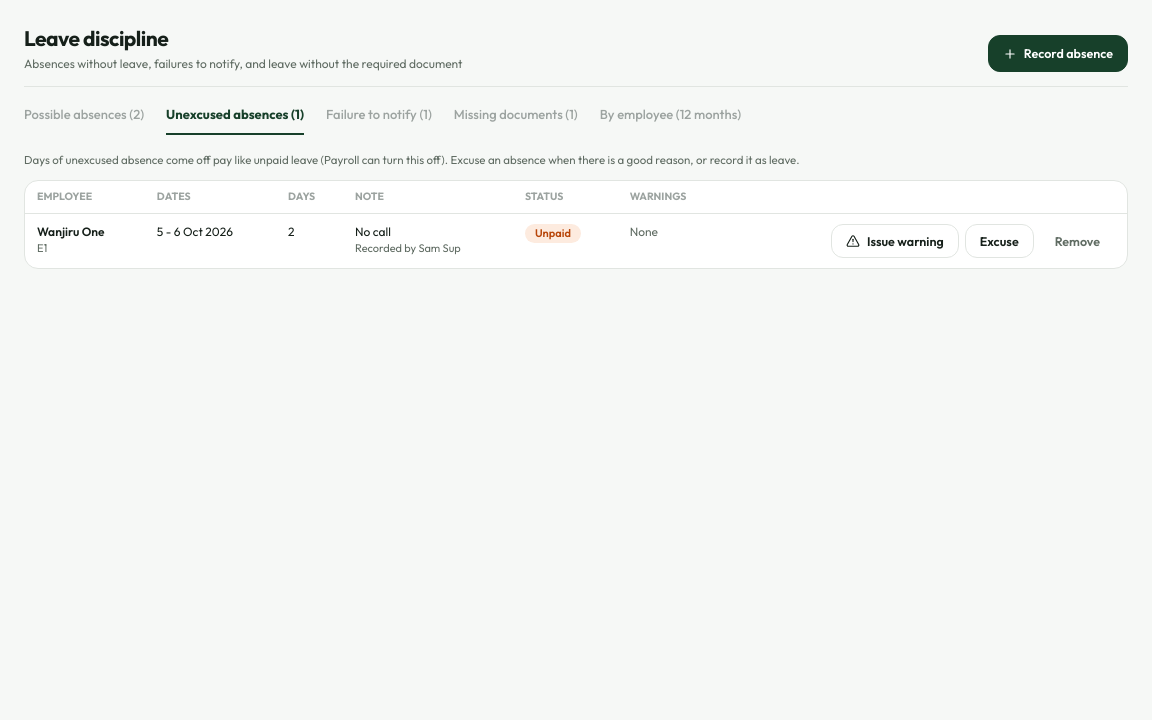
it: Possible absences › records one with the usual recording, the employee and days filled in
Later steps or results of the test are not shown.
What coordinates should you click on to do the following:
click the button "Possible absences (2)"
I would click on:
 (84, 120)
Its box is [24,105,144,134].
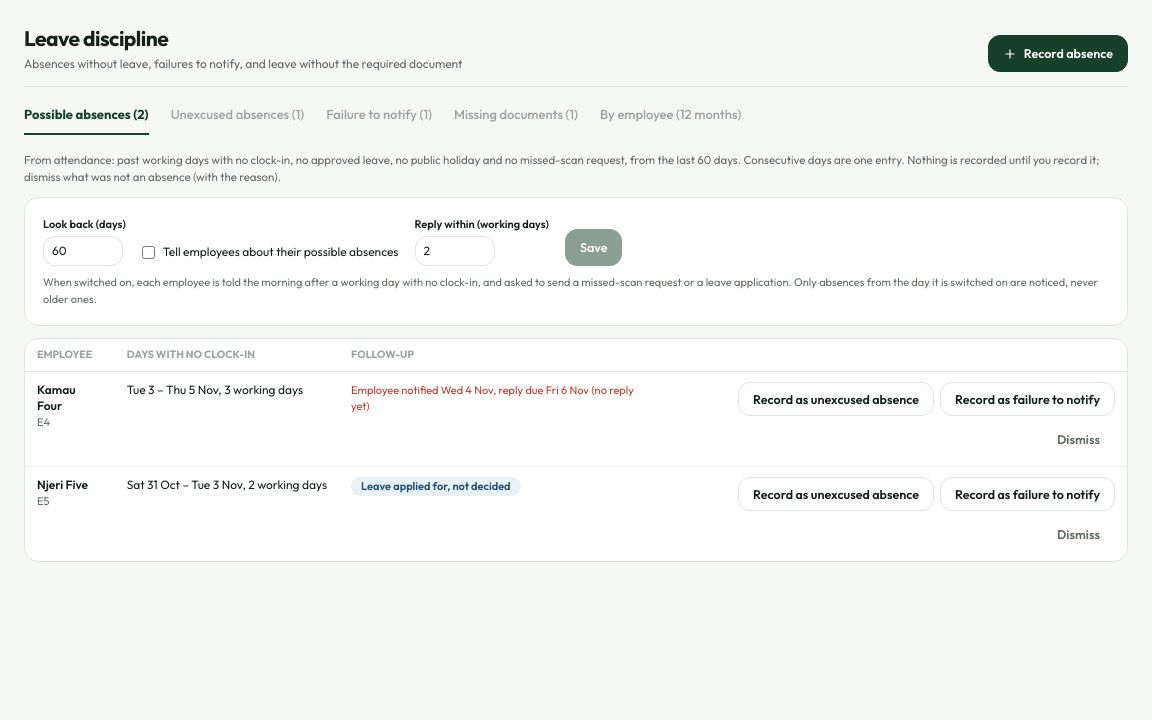
What coordinates should you click on to do the following:
click the button with aria-label "Record as unexcused absence: Kamau Four, 3 - 5 Nov 2026"
I would click on:
 (836, 399)
Its box is [738,382,934,416].
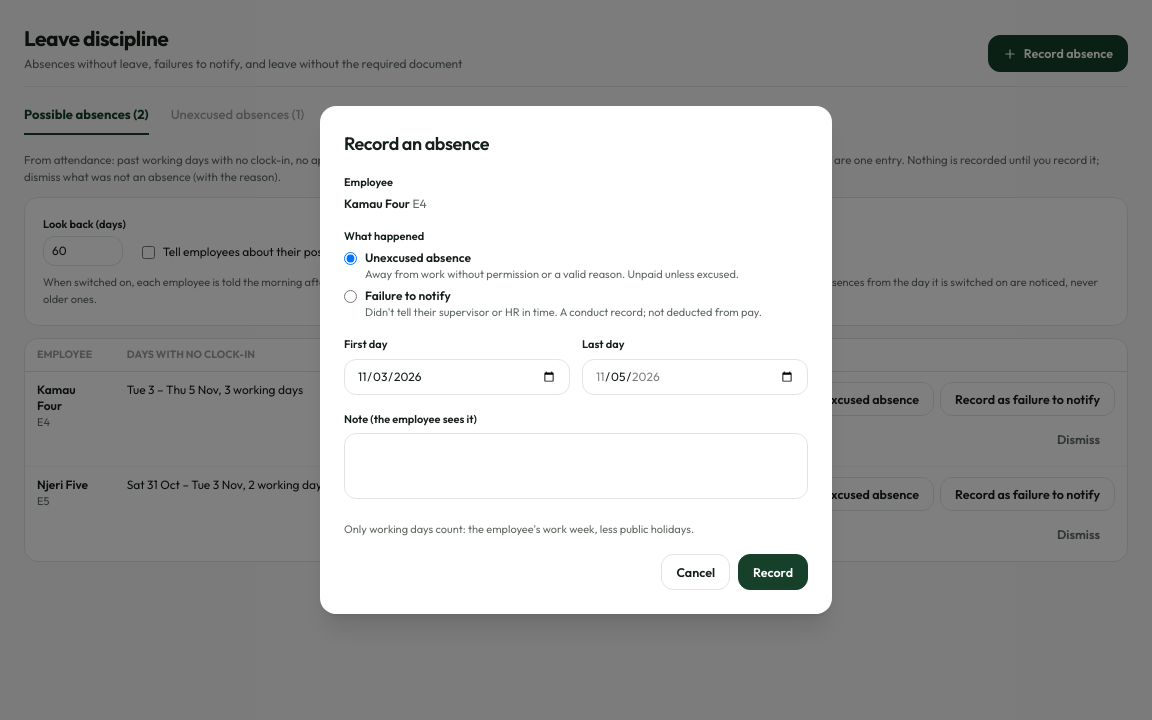
Expected: the text "Kamau Four" is shown, [344,196,410,211]
Expected: the date field labelled "First day" holds "2026-11-03", [344,359,570,395]
Expected: the date field labelled "Last day" holds "2026-11-05", [582,359,808,395]
